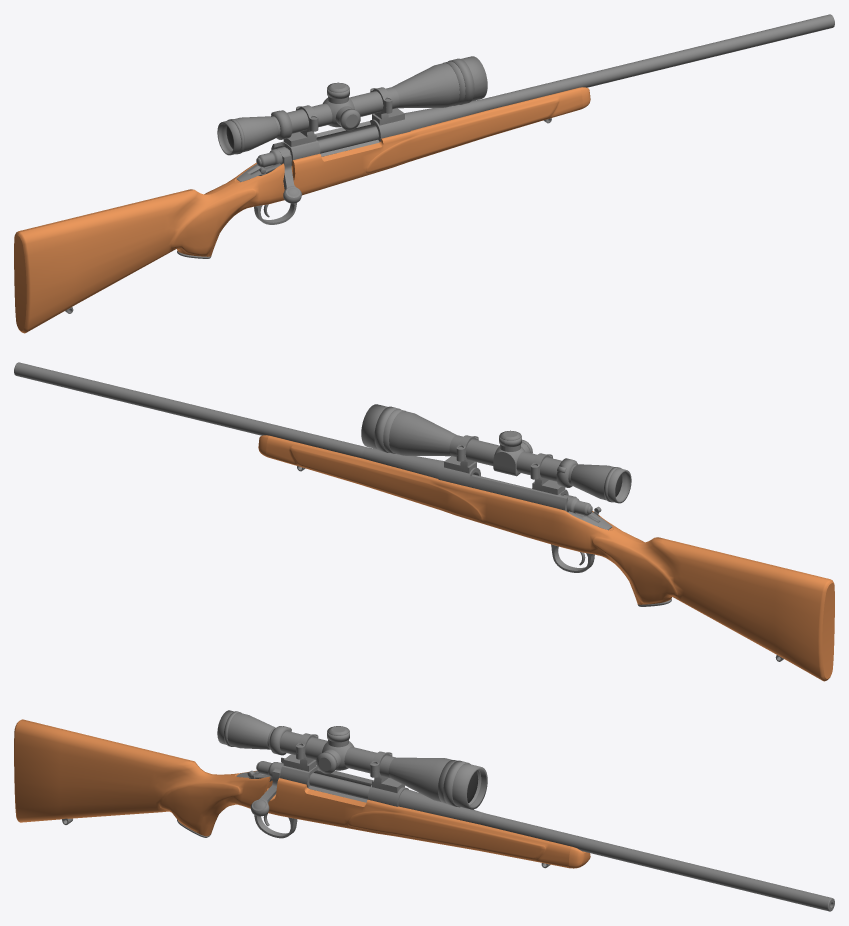
The model's file is Rem700ColorAnimation.gltf.
3 renders of one model, top to bottom at view 1: azimuth 30°, elevation 25°; view 2: azimuth 150°, elevation 25°; view 3: azimuth 330°, elevation 25°, orthographic.
Visible parts, largest first — view 1: Stock_low_Stock_high:002_Cylinder:017.007_Stock_low_Stock_hi, Scope_Middle_Piece_low_Circle:001_Scope_Middle_Piece_low_Cir, Barrel_low_Barrel_high:002_Cylinder:000.007_Barrel_low_Barre, Breech_Plug_Cup_low_Breech_Plug_Cup_high:002_Cylinder:016.00; view 2: Stock_low_Stock_high:002_Cylinder:017.007_Stock_low_Stock_hi, Barrel_low_Barrel_high:002_Cylinder:000.007_Barrel_low_Barre, Scope_Middle_Piece_low_Circle:001_Scope_Middle_Piece_low_Cir; view 3: Stock_low_Stock_high:002_Cylinder:017.007_Stock_low_Stock_hi, Scope_Middle_Piece_low_Circle:001_Scope_Middle_Piece_low_Cir, Barrel_low_Barrel_high:002_Cylinder:000.007_Barrel_low_Barre, Breech_Plug_Cup_low_Breech_Plug_Cup_high:002_Cylinder:016.00, Scope_Back_Bottom_Mount_low_Scope_Back_Bottom_Mount_low:001_, Scope_Front_Bottom_Mount_low_Scope_Back_Bottom_Mount_low:001.
Part boxes in pixels (left/top/right/bottom): Stock_low_Stock_high:002_Cylinder:017.007_Stock_low_Stock_hi: left=14, top=87, right=590, bottom=333; Scope_Middle_Piece_low_Circle:001_Scope_Middle_Piece_low_Cir: left=217, top=56, right=487, bottom=155; Barrel_low_Barrel_high:002_Cylinder:000.007_Barrel_low_Barre: left=271, top=14, right=834, bottom=165; Breech_Plug_Cup_low_Breech_Plug_Cup_high:002_Cylinder:016.00: left=256, top=126, right=378, bottom=203; Stock_low_Stock_high:002_Cylinder:017.007_Stock_low_Stock_hi: left=258, top=435, right=834, bottom=681; Barrel_low_Barrel_high:002_Cylinder:000.007_Barrel_low_Barre: left=14, top=362, right=568, bottom=511; Scope_Middle_Piece_low_Circle:001_Scope_Middle_Piece_low_Cir: left=361, top=404, right=631, bottom=503; Stock_low_Stock_high:002_Cylinder:017.007_Stock_low_Stock_hi: left=14, top=719, right=590, bottom=868; Scope_Middle_Piece_low_Circle:001_Scope_Middle_Piece_low_Cir: left=217, top=710, right=487, bottom=809; Barrel_low_Barrel_high:002_Cylinder:000.007_Barrel_low_Barre: left=280, top=757, right=834, bottom=911; Breech_Plug_Cup_low_Breech_Plug_Cup_high:002_Cylinder:016.00: left=250, top=761, right=370, bottom=816; Scope_Back_Bottom_Mount_low_Scope_Back_Bottom_Mount_low:001_: left=283, top=752, right=316, bottom=771; Scope_Front_Bottom_Mount_low_Scope_Back_Bottom_Mount_low:001: left=370, top=770, right=404, bottom=792.
Size of the model in its own units: 1.05 by 0.2085 by 0.0703.
